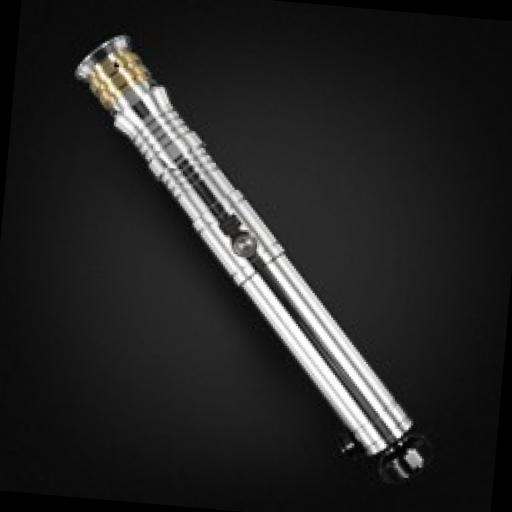lightsaber: (44, 26, 466, 492)
